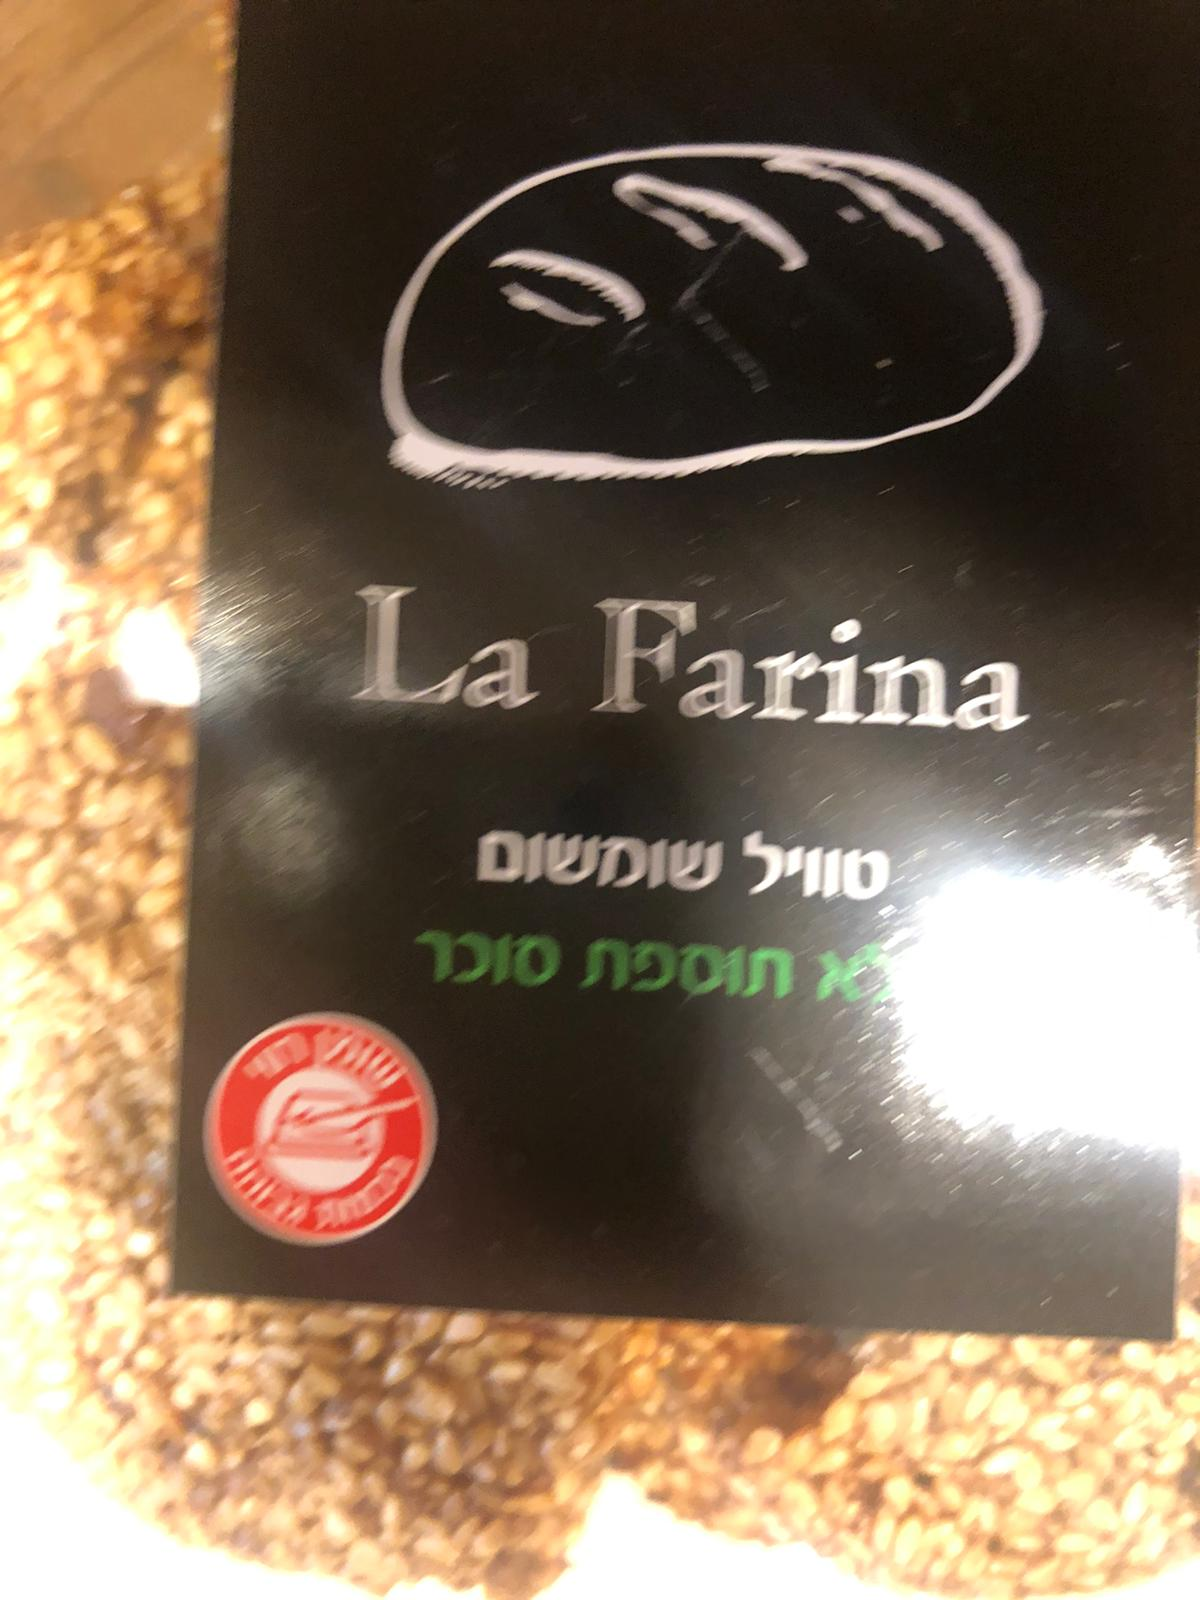fat: (200, 1007, 444, 1251)
